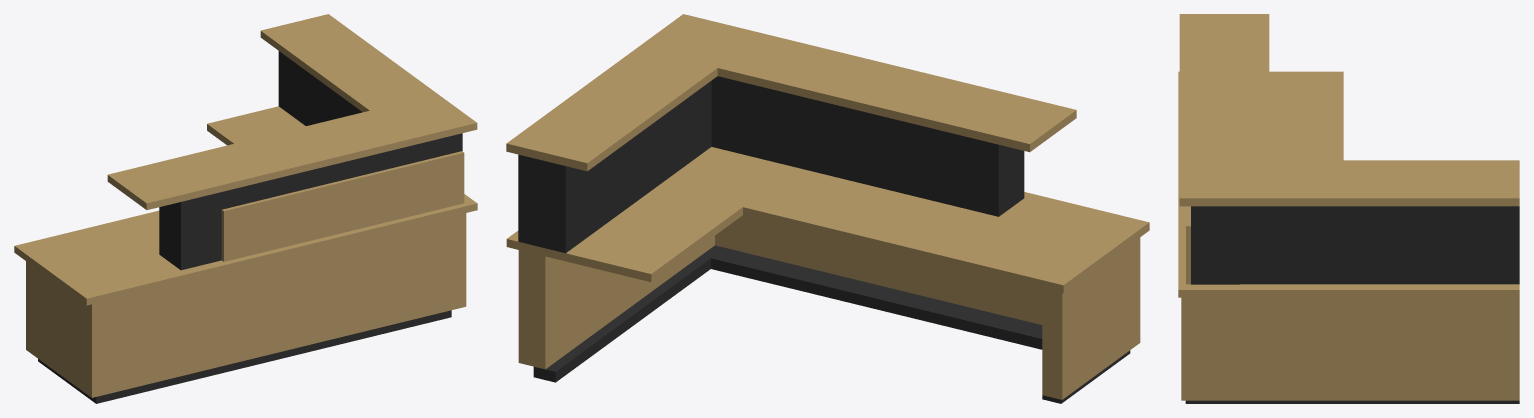
File: WallDesk.fbx
3 views of the same model, side by side, from view 1: azimuth 30°, elevation 25°; view 2: azimuth 150°, elevation 25°; view 3: azimuth 270°, elevation 25° (orthographic). The views are drawn at different scales.
Parts seen in each view (by area): view 1: HospitalDesk; view 2: HospitalDesk; view 3: HospitalDesk.
Boxes of the visible parts, <box> form: HospitalDesk: <box>14,14,477,403</box>; HospitalDesk: <box>506,14,1149,403</box>; HospitalDesk: <box>1178,14,1519,403</box>.
Size of the model in its own units: 18.74 by 8.74 by 12.39.
